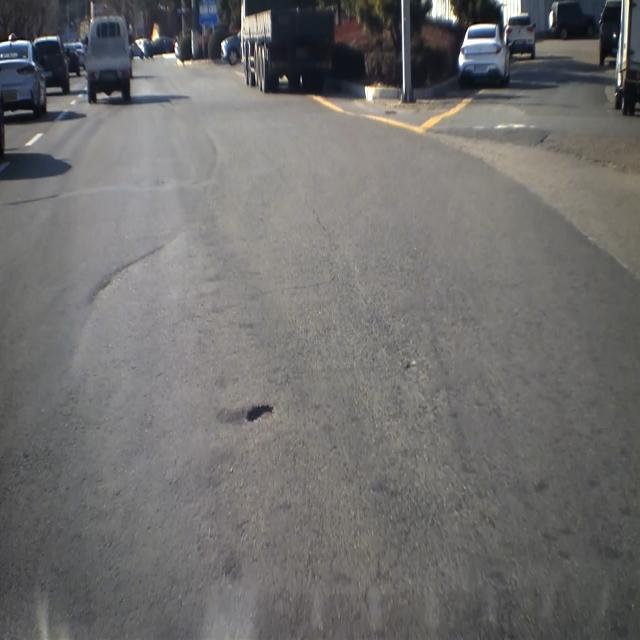Buraco: (243, 403, 277, 426)
